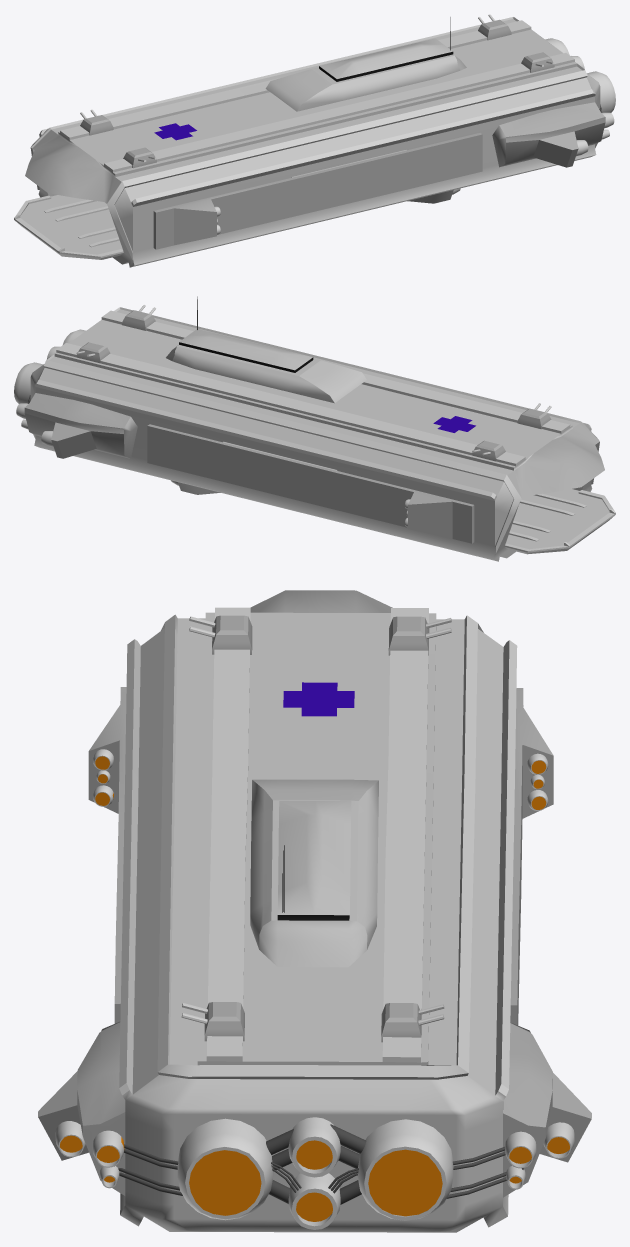
Rendered from Transport_Ship.fbx.
The picture shows the model from 3 angles, top to bottom: view 1: azimuth 30°, elevation 25°; view 2: azimuth 150°, elevation 25°; view 3: azimuth 270°, elevation 25°; orthographic projection. The views are drawn at different scales.
Parts seen in each view (by area): view 1: Transport_Ship; view 2: Transport_Ship; view 3: Transport_Ship.
Part boxes in pixels (bbox=[...]): Transport_Ship: bbox=[14, 14, 615, 267]; Transport_Ship: bbox=[14, 296, 615, 561]; Transport_Ship: bbox=[38, 590, 591, 1232].
Bounding box in the file's own units: 128 × 35.83 × 56.
